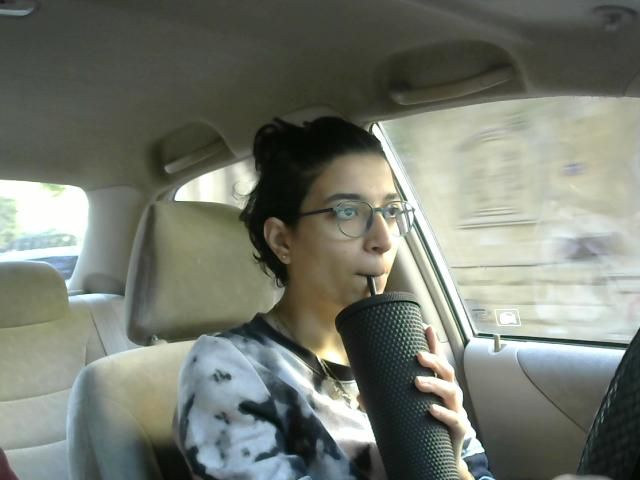Drinking: (263, 154, 466, 480)
